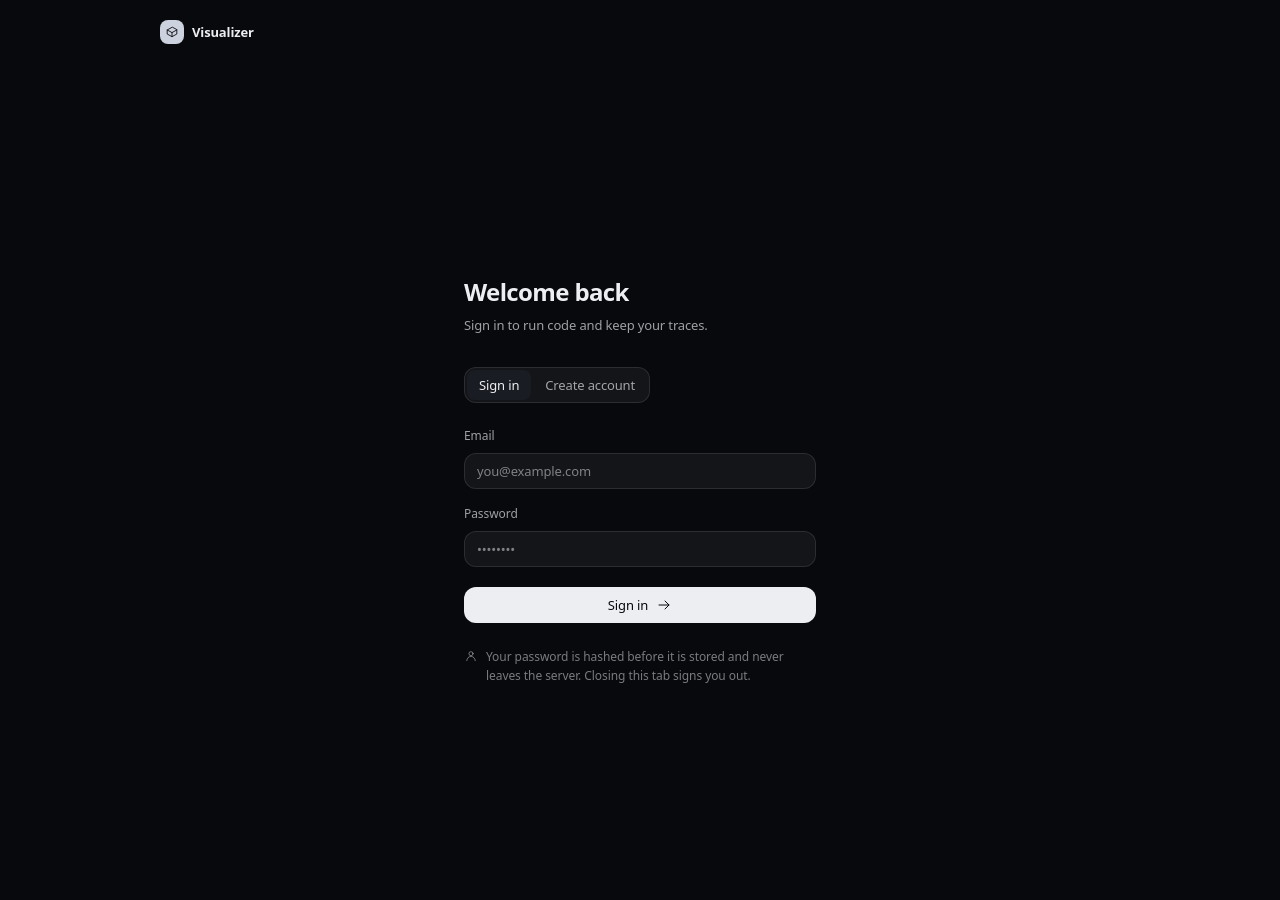
Test: the workspace gate › returns them to the page they asked for once signed in
Type "ada@example.com" into the field labelled "Email" at (640, 471), box x1=464 y1=453 x2=816 y2=489
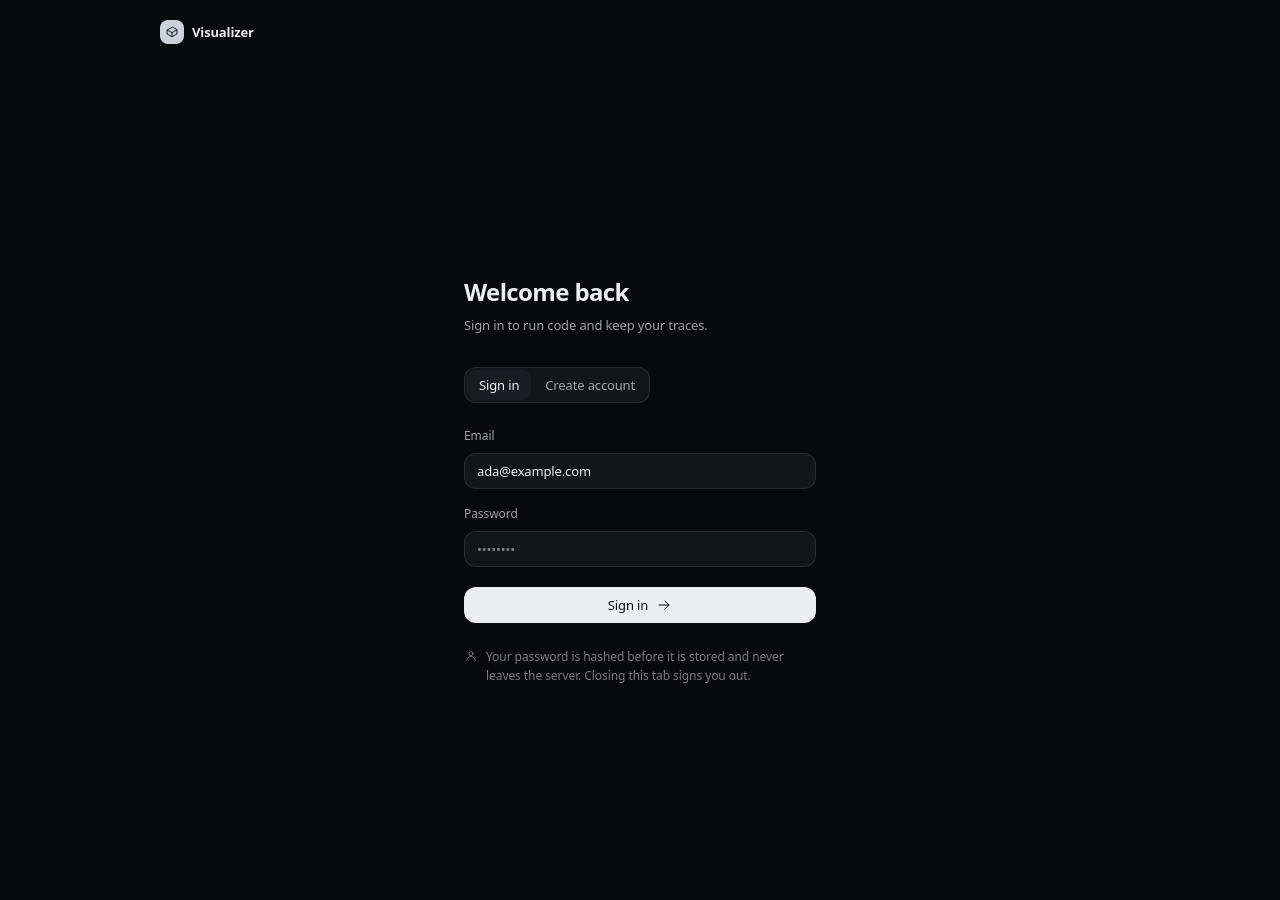
Type "hunter2!!" into the password field labelled "Password" at (640, 549), box x1=464 y1=531 x2=816 y2=567
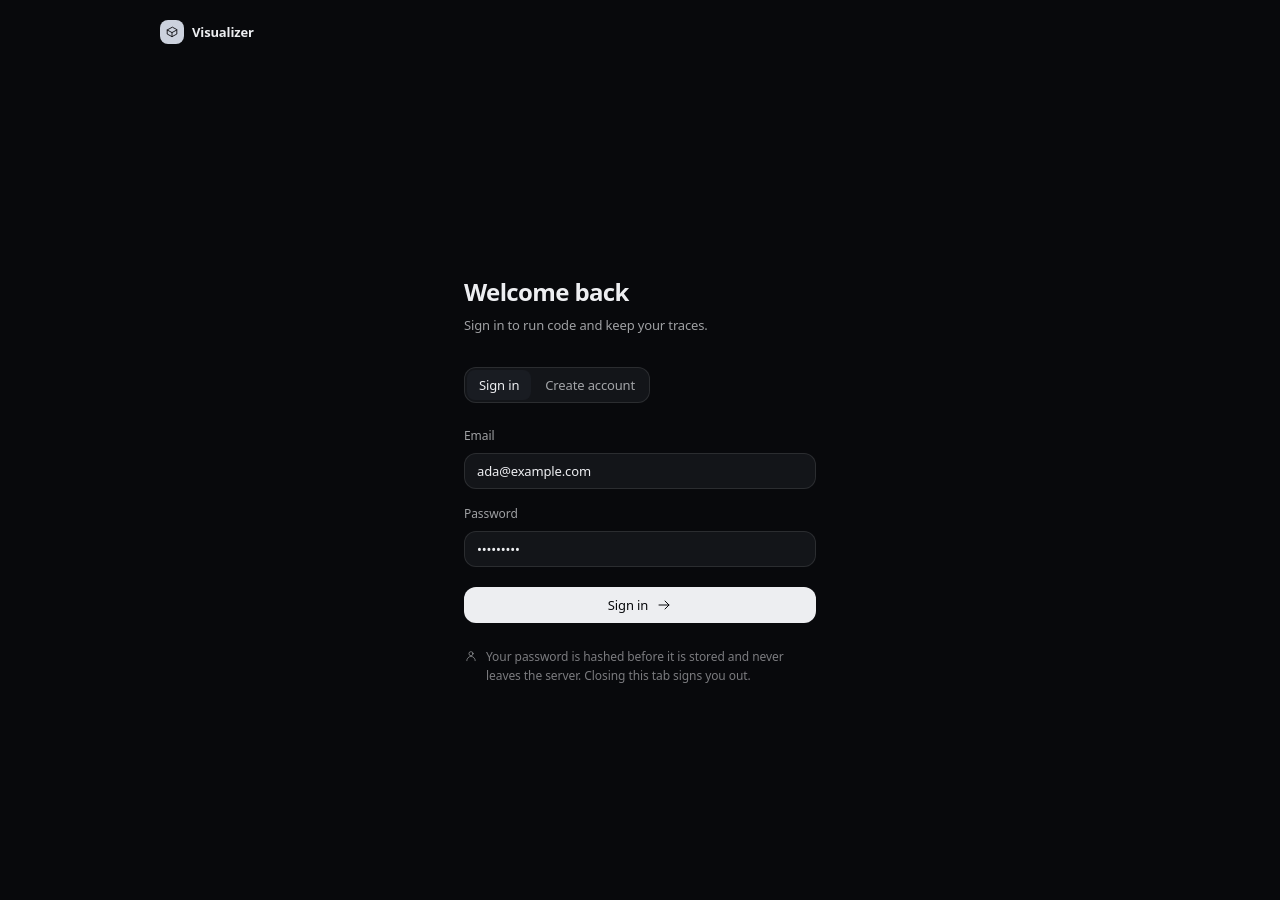
Click the button "Sign in" below "Email" at (640, 605), box x1=464 y1=587 x2=816 y2=623
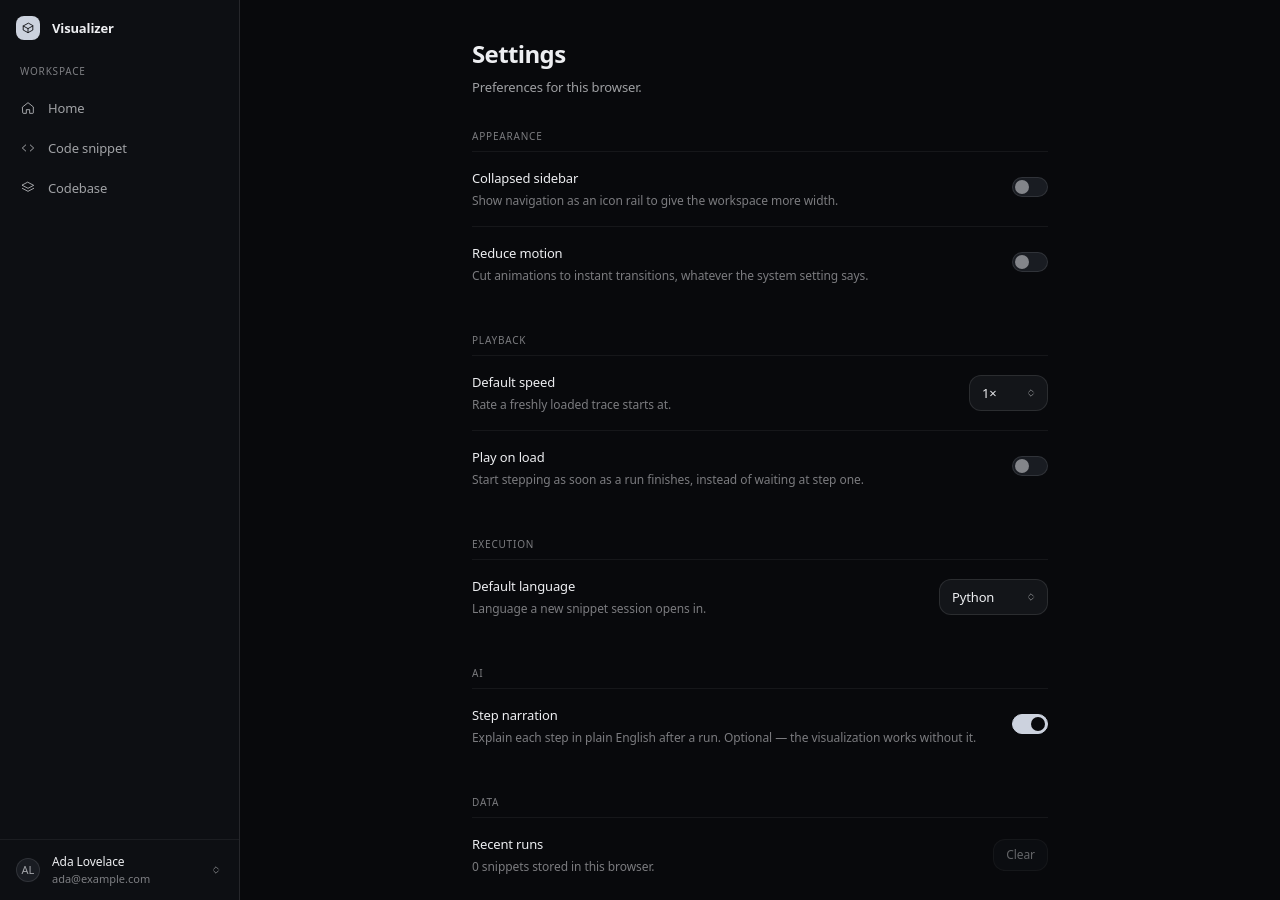
Result: the heading "Settings" is shown at x1=472 y1=37 x2=566 y2=70
